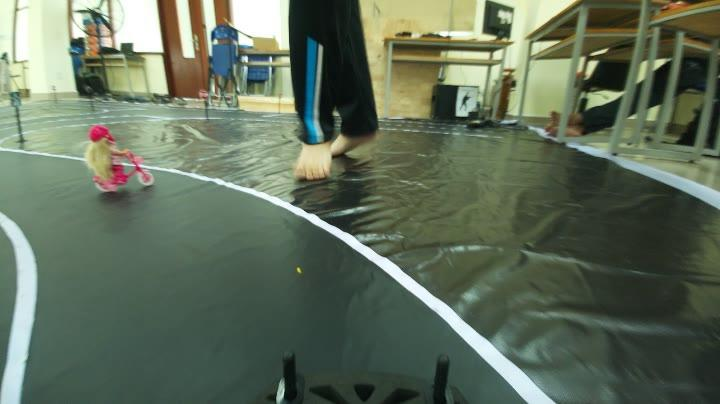pedestrian: (73, 122, 166, 203)
